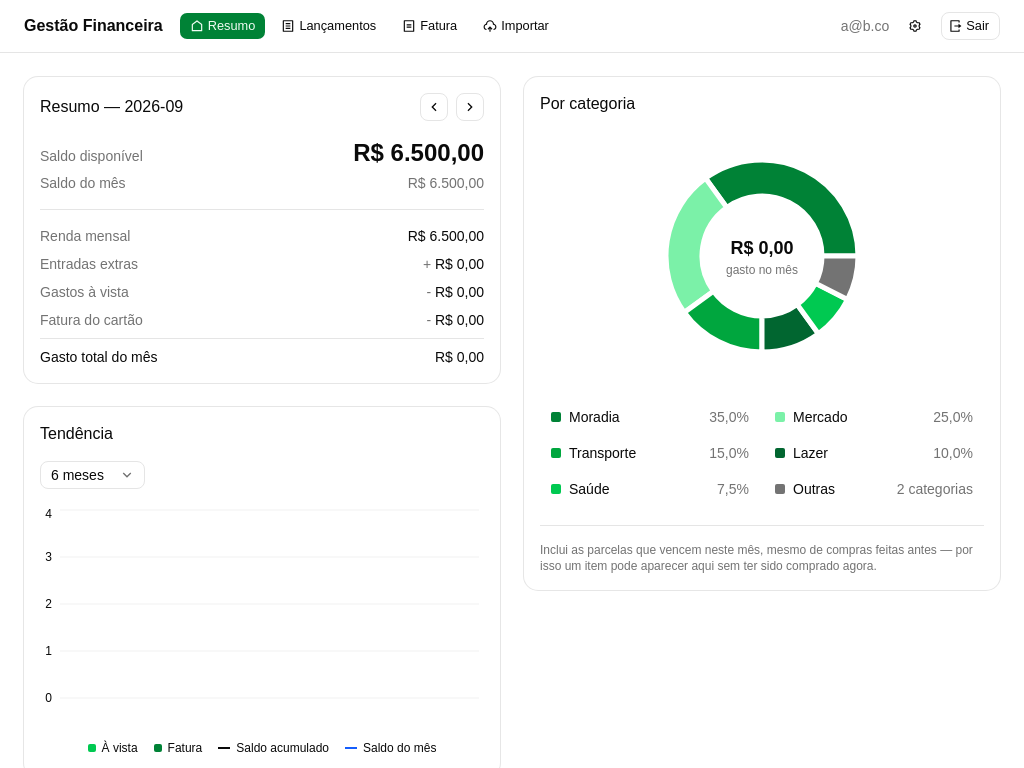
it: SummaryScreen › passando de cinco categorias, as menores viram "Outras", que abre todas no popup
expect the button "Contas" is not shown: met
Click the button "Outras 2 categorias". click: (874, 489)
box: x1=764 y1=473 x2=984 y2=505
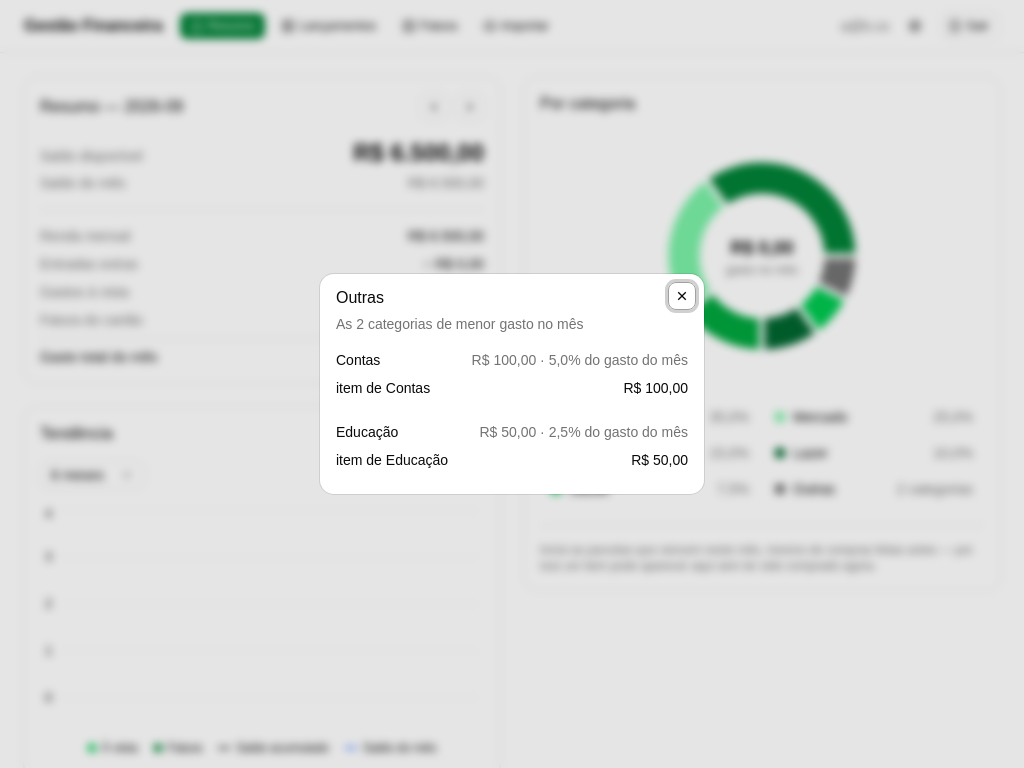
expect the dialog "Outras" shows "As 2 categorias de menor gasto no mês": met, box x1=336 y1=316 x2=584 y2=332
expect the heading "Contas R$ 100,00 · 5,0% do gasto do mês" is shown: met, box x1=336 y1=350 x2=688 y2=370
expect the heading "Educação R$ 50,00 · 2,5% do gasto do mês" is shown: met, box x1=336 y1=422 x2=688 y2=442
